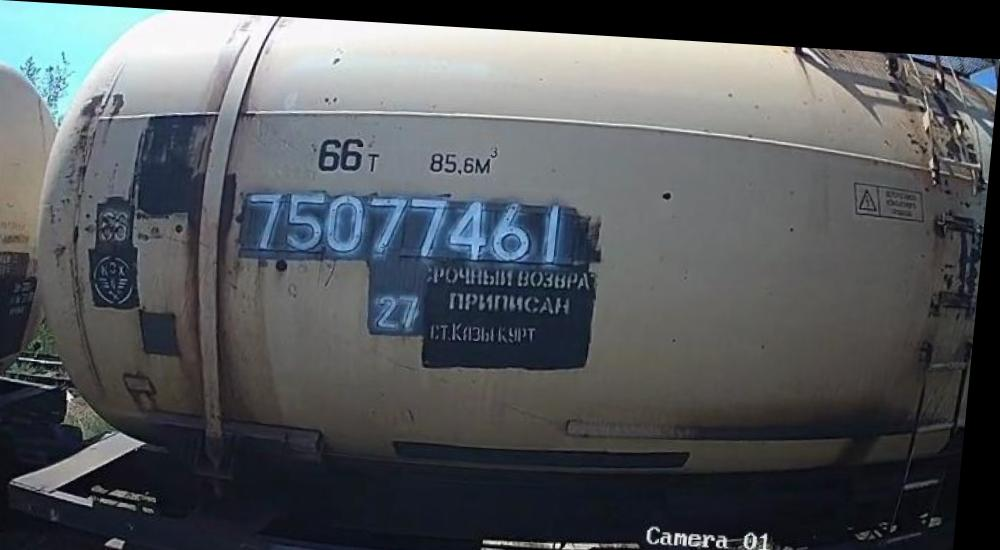Wagon-number: (242, 177, 580, 260)
